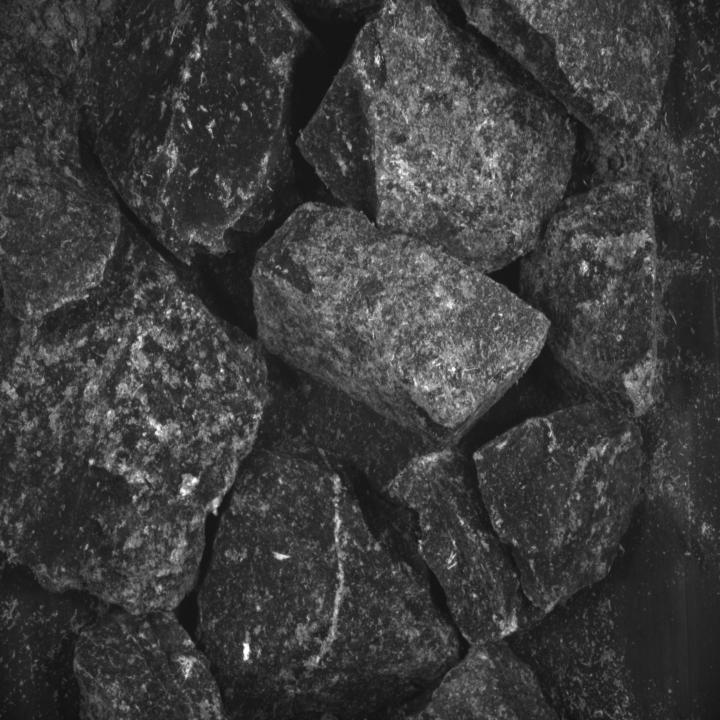stone: (1, 210, 265, 612), (192, 435, 461, 720), (296, 0, 576, 273), (252, 203, 550, 447), (83, 0, 312, 264), (472, 404, 640, 613), (519, 178, 655, 416), (388, 452, 530, 642), (0, 94, 118, 320), (505, 0, 673, 140), (76, 608, 227, 720), (417, 640, 562, 720)
